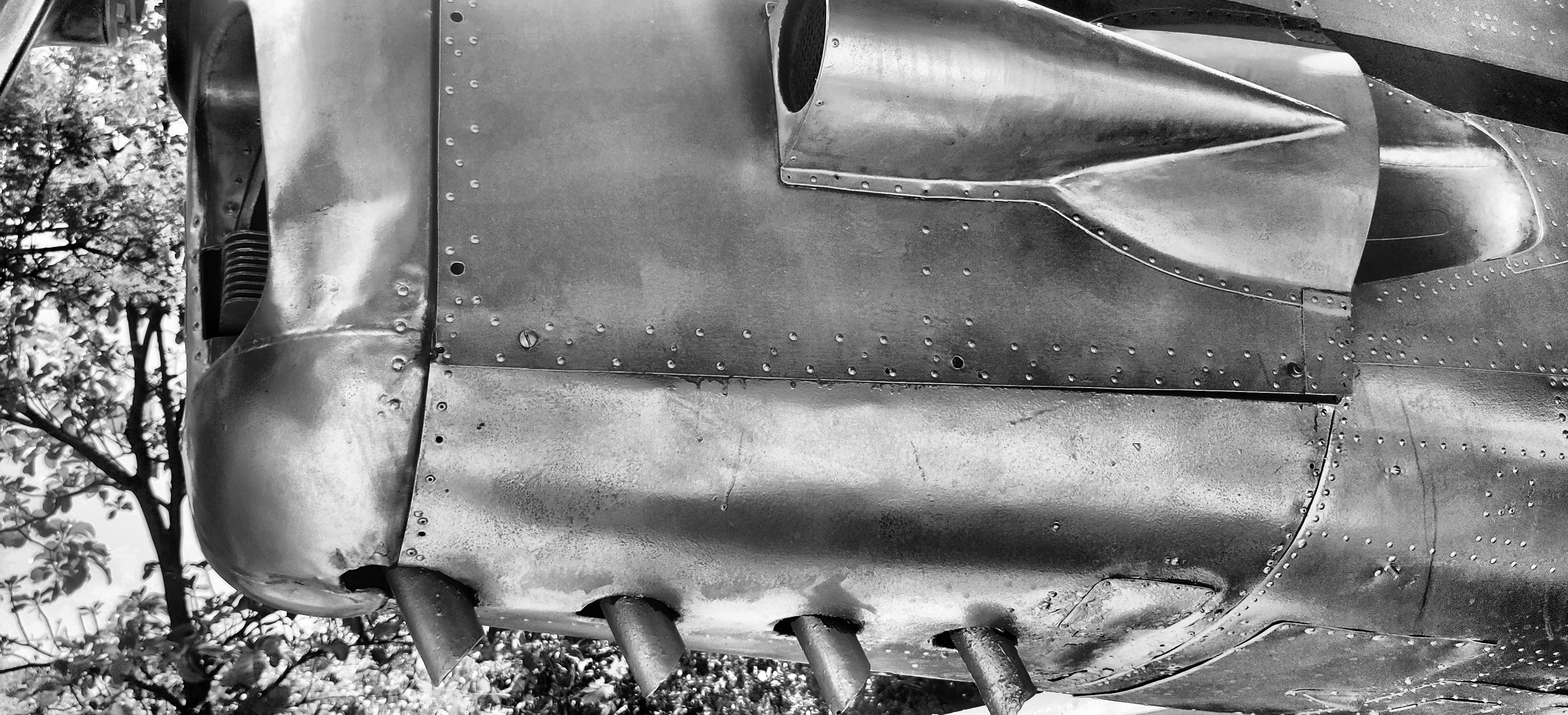crack: (431, 346, 444, 361)
dent: (268, 145, 377, 337), (384, 263, 431, 368)
missing-head: (449, 262, 466, 276), (449, 11, 466, 24), (951, 354, 965, 369), (435, 434, 446, 444), (417, 530, 426, 538), (834, 174, 841, 181), (923, 188, 930, 194), (1158, 643, 1166, 648), (1309, 463, 1315, 469), (1176, 586, 1181, 591), (787, 174, 792, 179)
paint-peel-off: (1047, 668, 1088, 683)
